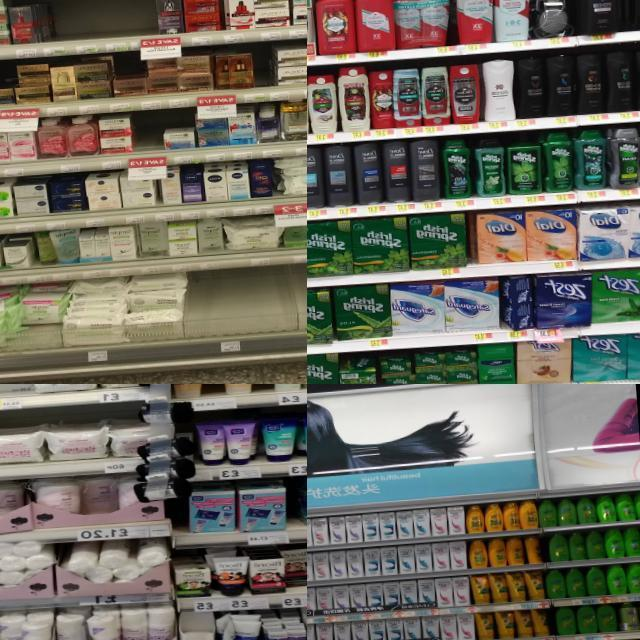empty: (186, 267, 294, 356), (128, 112, 164, 168), (97, 0, 128, 52), (125, 0, 157, 50), (46, 0, 73, 55), (71, 0, 99, 53), (251, 44, 272, 102)
